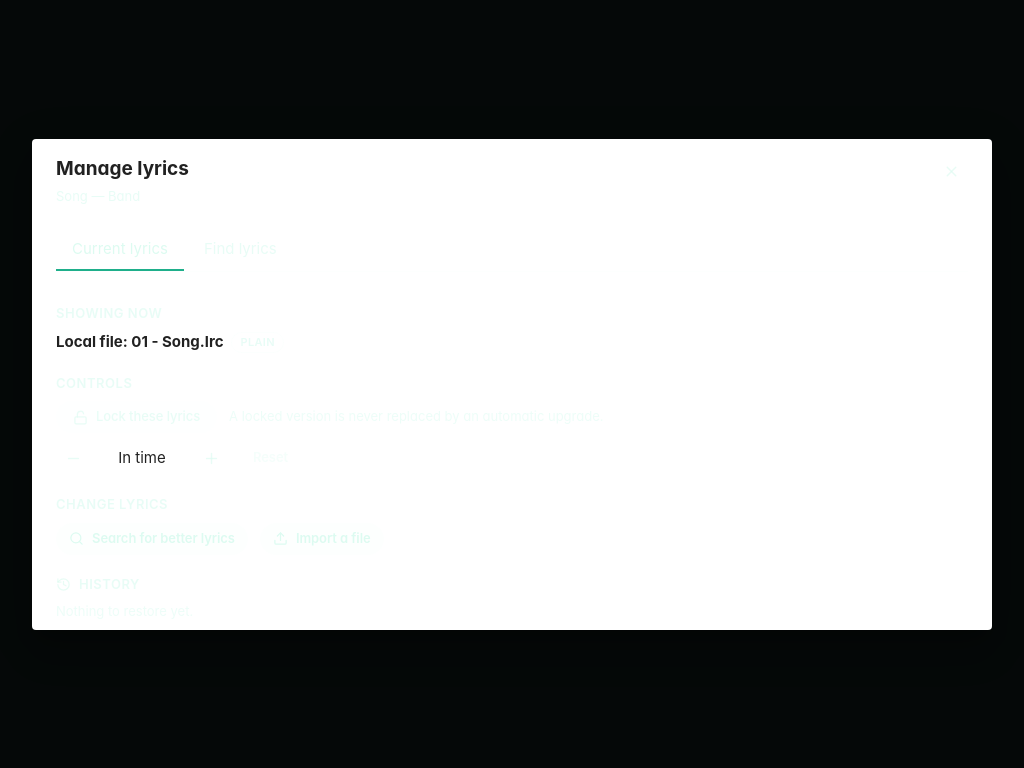
Test case: <LyricsManager /> › finding and choosing lyrics › says when a provider is not set up, slow or down, and when nothing matched
Click the button "Search for better lyrics".
click(152, 538)  # box [56, 522, 248, 554]
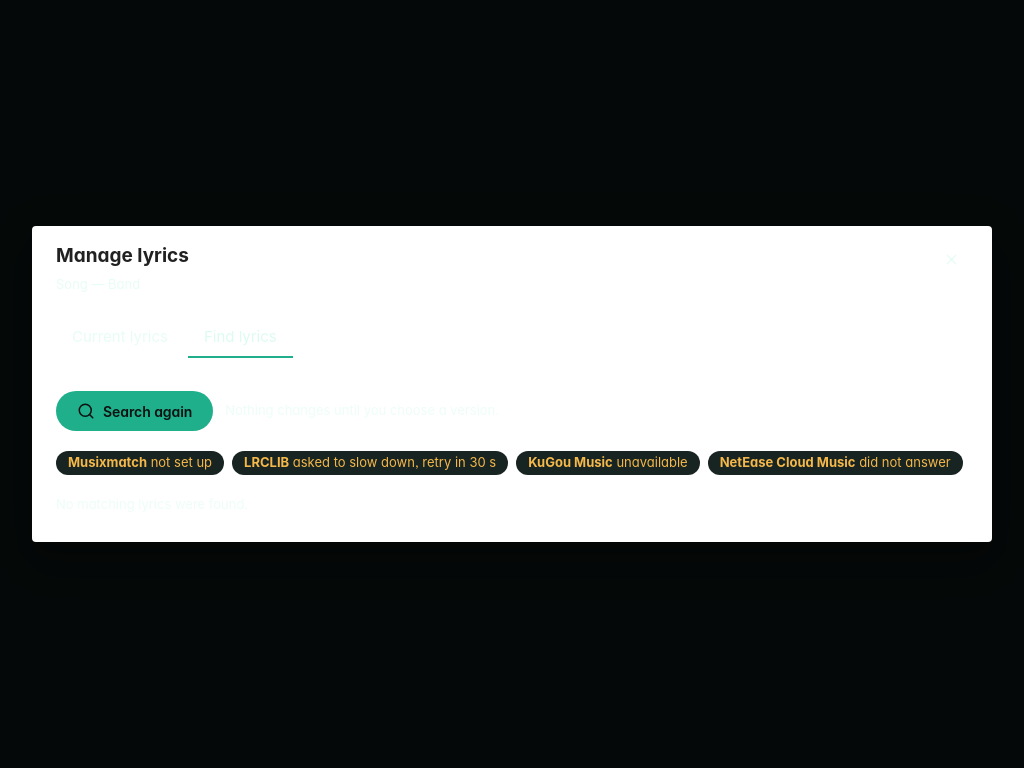
Check: the list item "LRCLIB asked to slow down, retry in 30 s" is shown, box [232, 451, 508, 474]
Check: the list item "Musixmatch not set up" is shown, box [56, 451, 224, 474]
Check: the list item "NetEase Cloud Music did not answer" is shown, box [708, 451, 963, 474]
